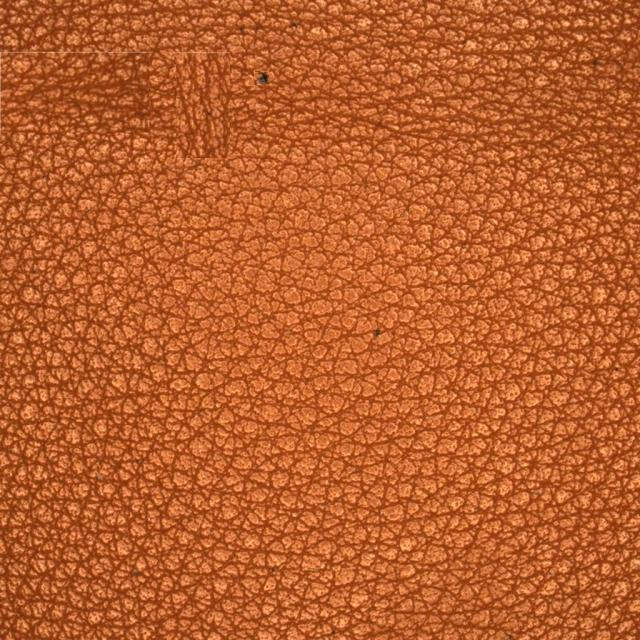Healed Injury: (73, 40, 371, 177)
pinhole: (208, 36, 338, 136)
